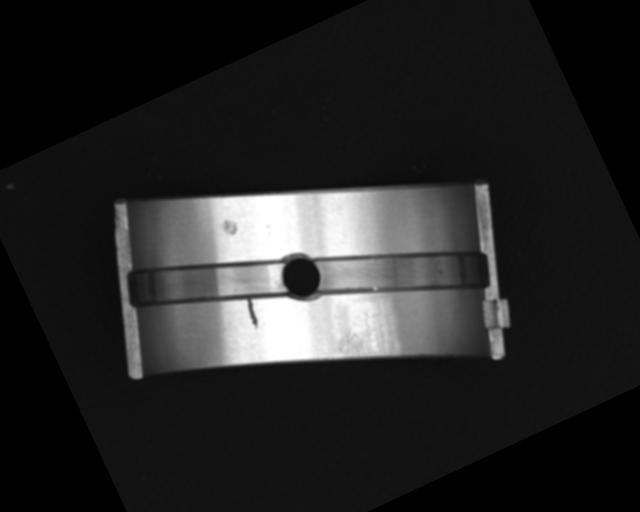bruise: (218, 215, 242, 240)
gap: (308, 197, 491, 345), (121, 215, 290, 347)
hole: (273, 249, 327, 304)
nick: (240, 296, 265, 332)
scratch: (325, 294, 412, 386)
